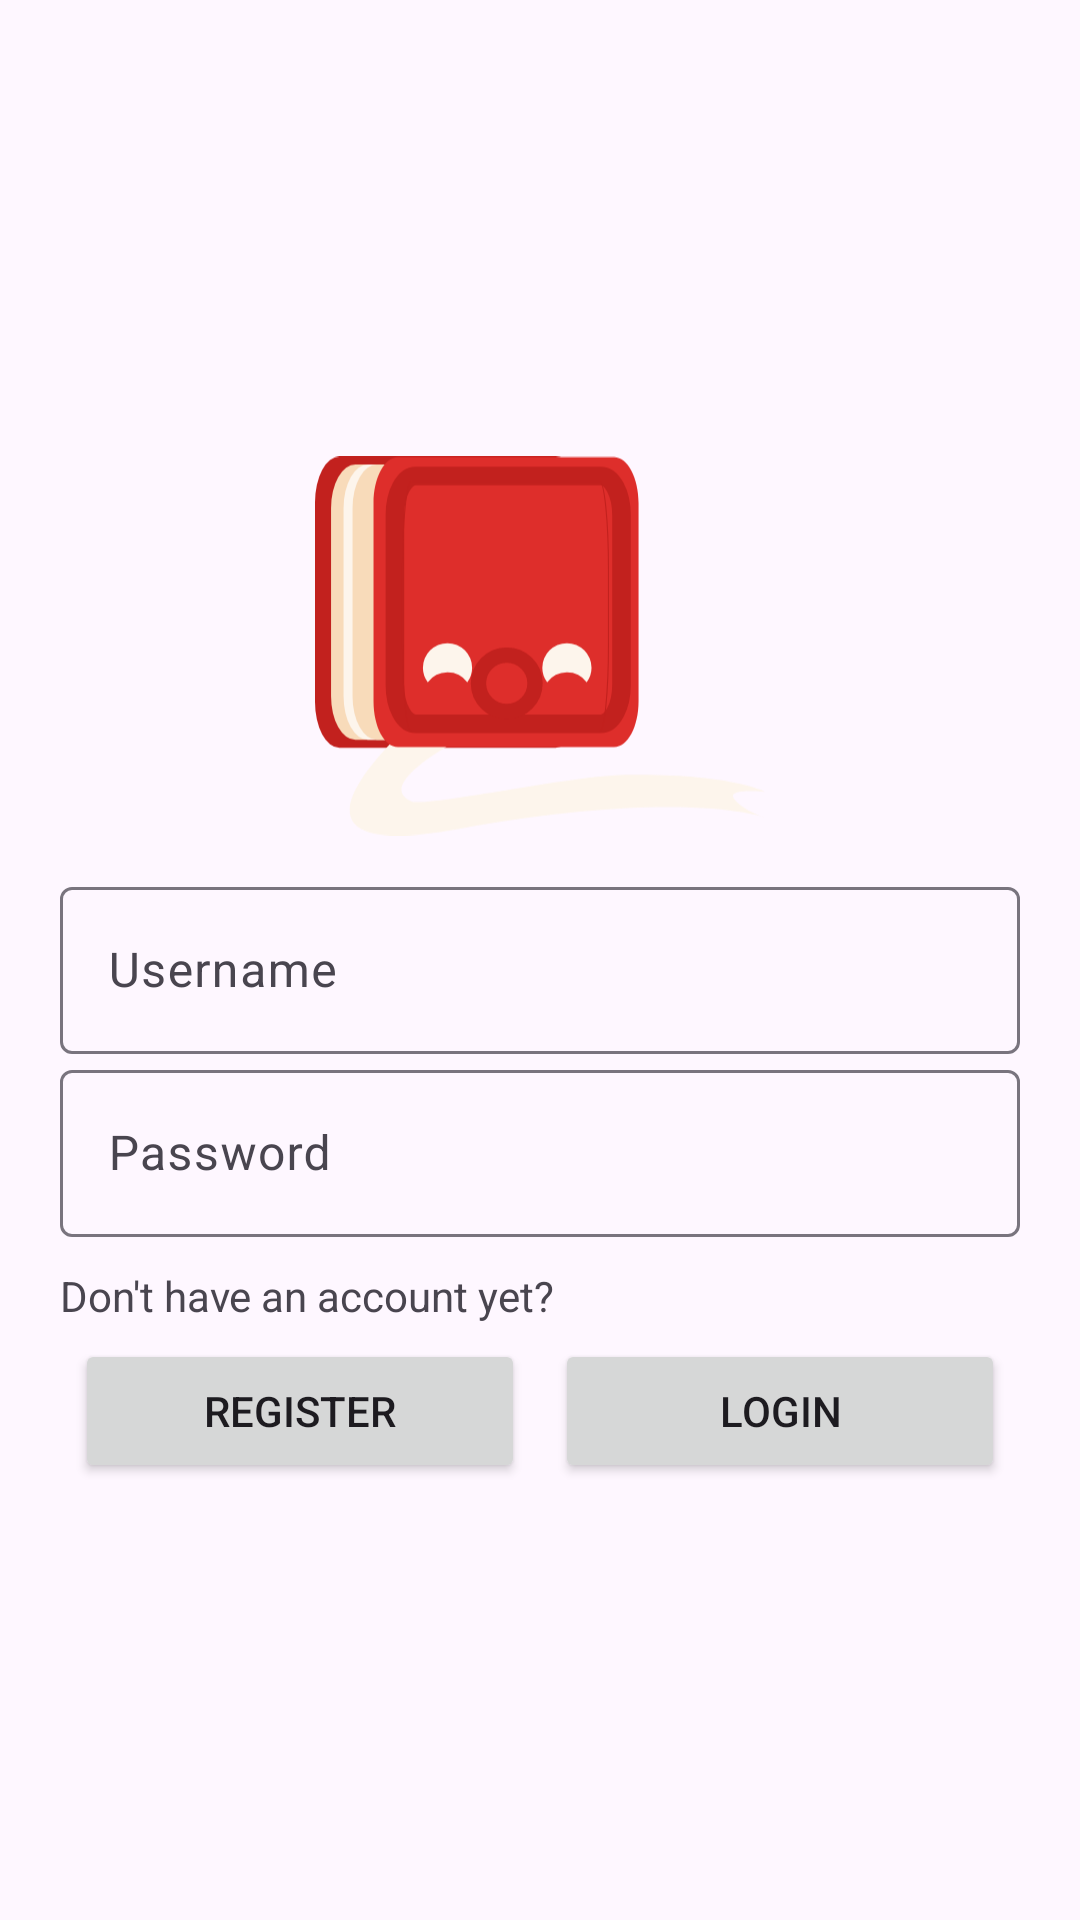

Screen size 1080px x 1920px. Icon name, then its box in pixels as [x1, y1, x2, y2]:
bookie: [315, 456, 639, 749]
